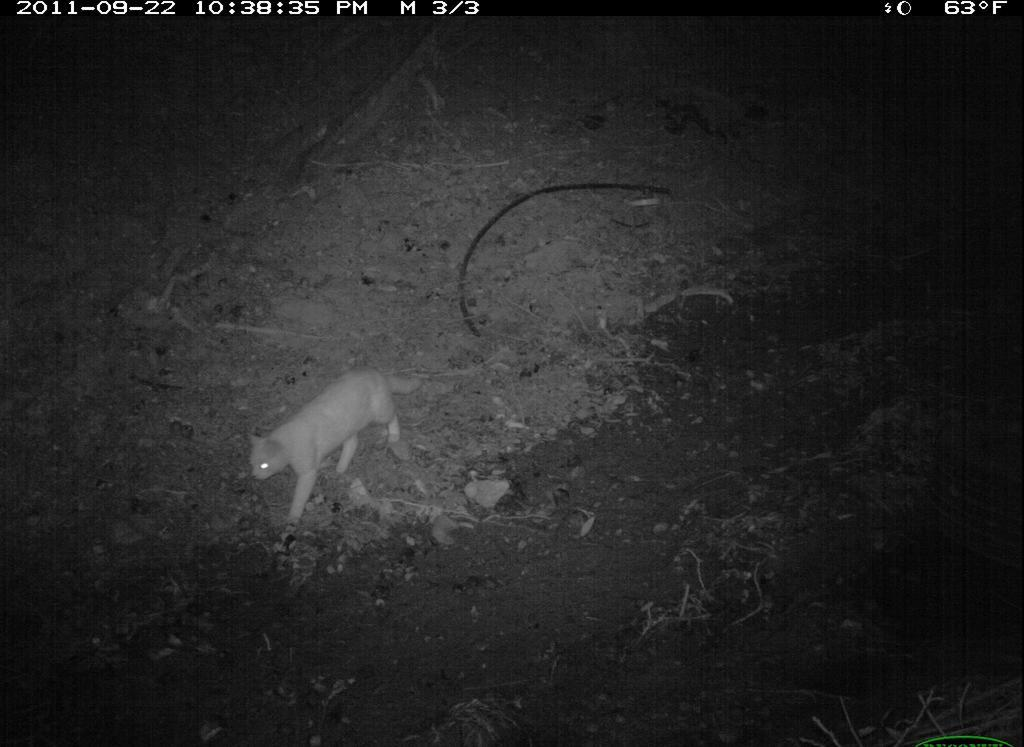cat: (239, 358, 433, 528)
